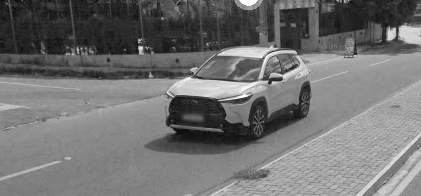car: (163, 41, 314, 147)
